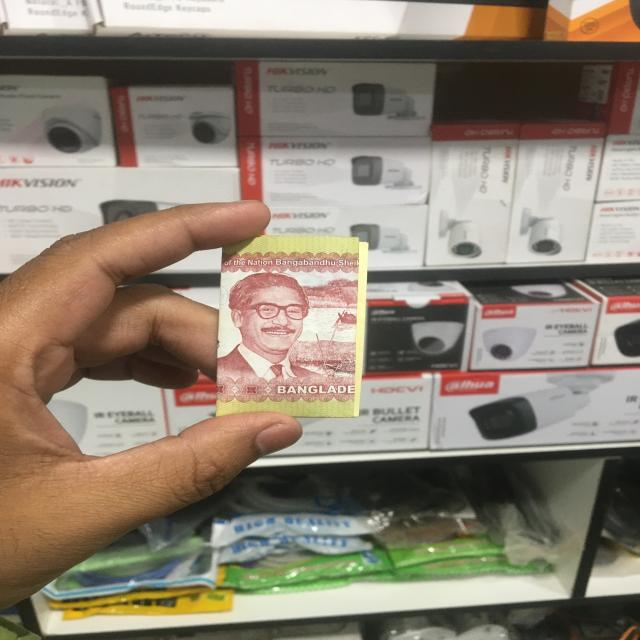Taka: (221, 232, 356, 422)
